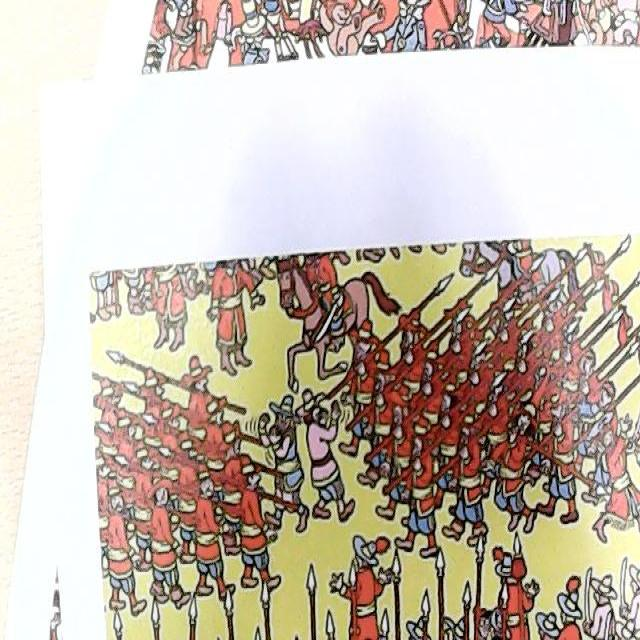waldo: (472, 605, 492, 639)
